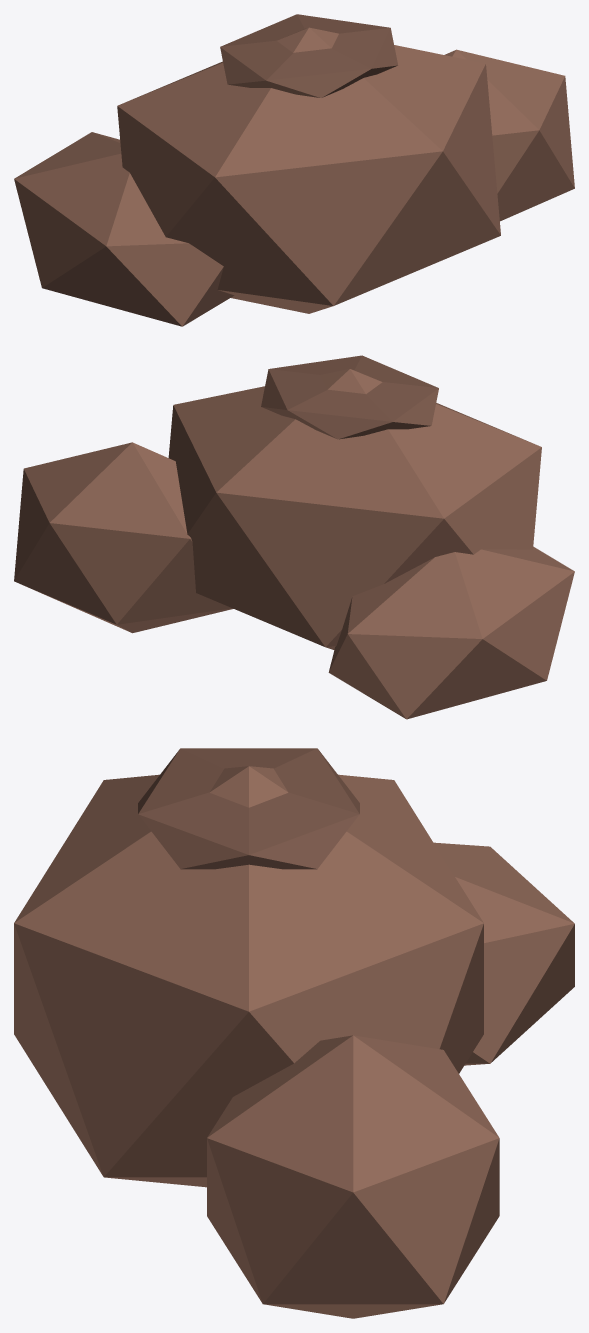
Rendered from SH10_L03_Rubble.fbx.
The picture shows the model from 3 angles, top to bottom: view 1: azimuth 30°, elevation 25°; view 2: azimuth 150°, elevation 25°; view 3: azimuth 270°, elevation 25°; orthographic projection. The views are drawn at different scales.
Parts seen in each view (by area): view 1: SH10_L03_Rubble; view 2: SH10_L03_Rubble; view 3: SH10_L03_Rubble.
Boxes of the visible parts, x1=… form: SH10_L03_Rubble: x1=14, y1=14, x2=574, y2=326; SH10_L03_Rubble: x1=14, y1=355, x2=574, y2=719; SH10_L03_Rubble: x1=14, y1=748, x2=574, y2=1318.
Size of the model in its own units: 172 by 90 by 108.
